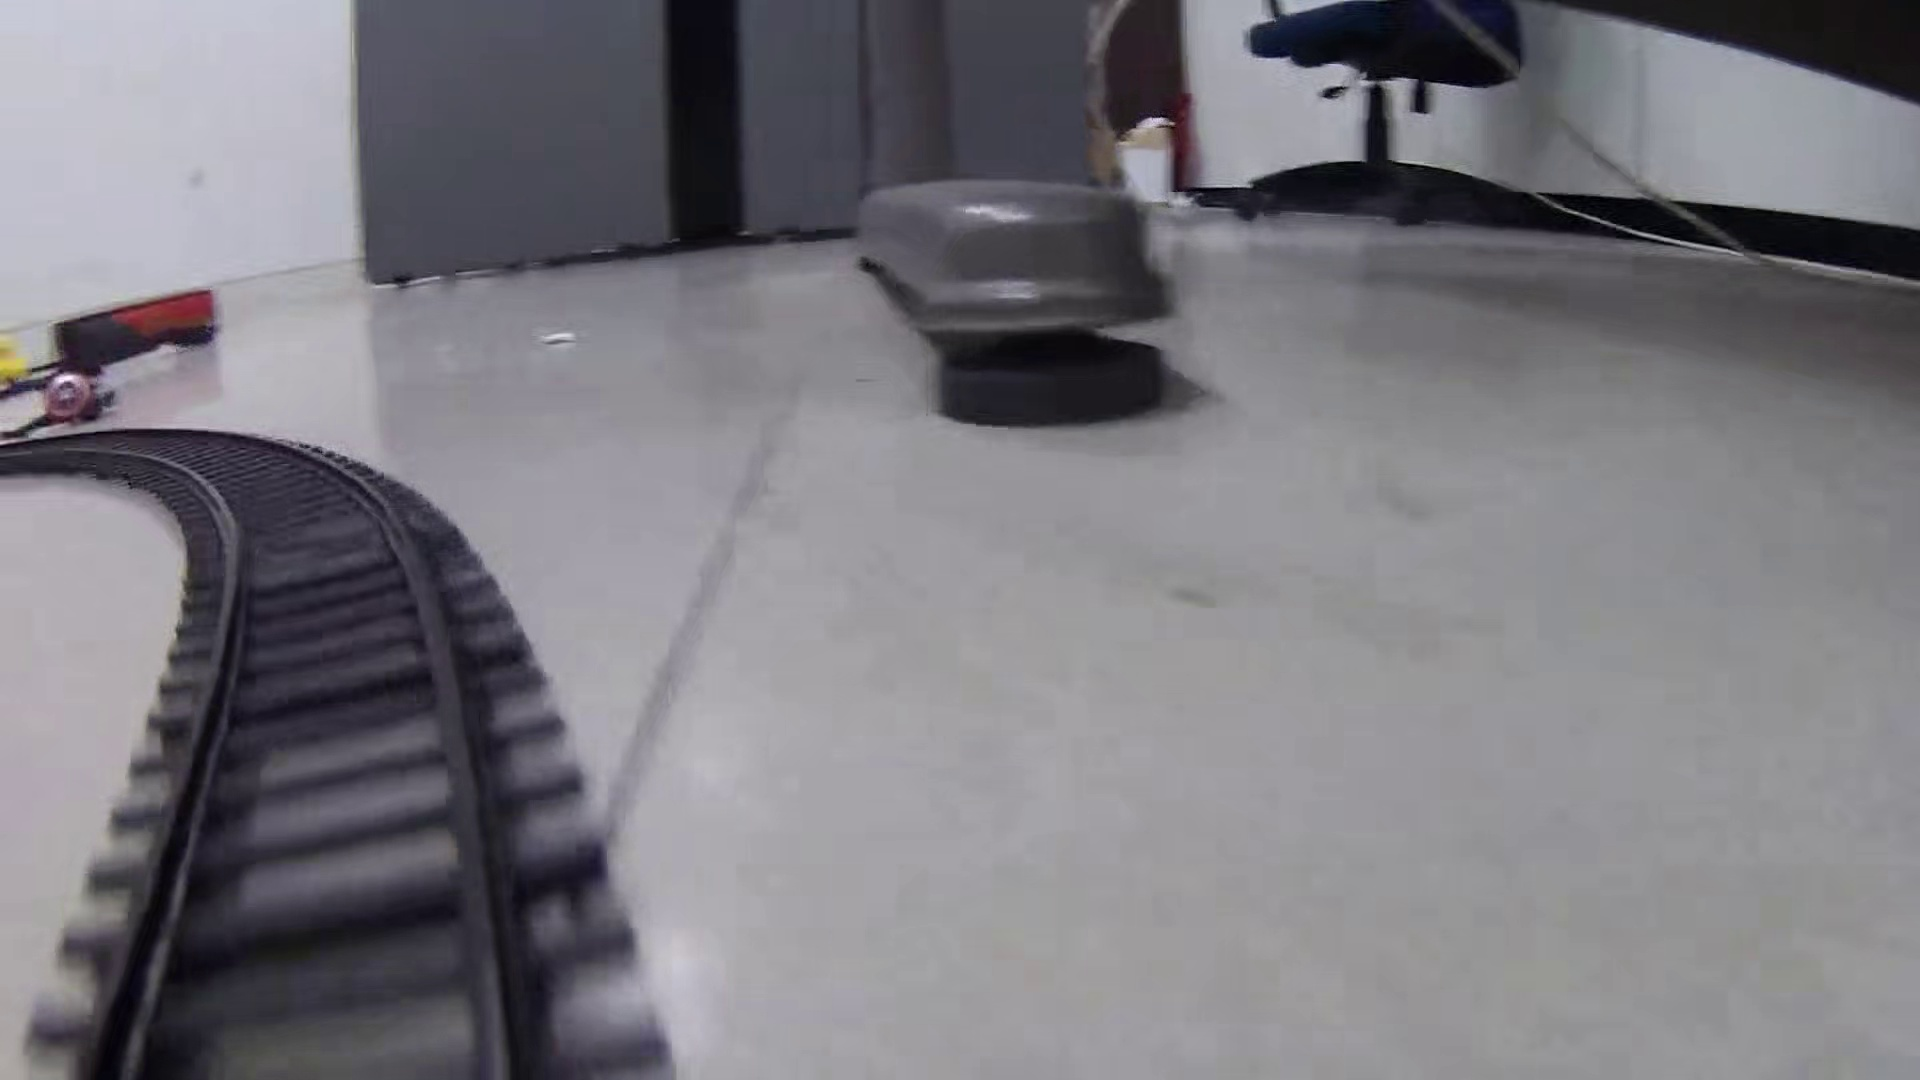people: (1, 366, 121, 447)
